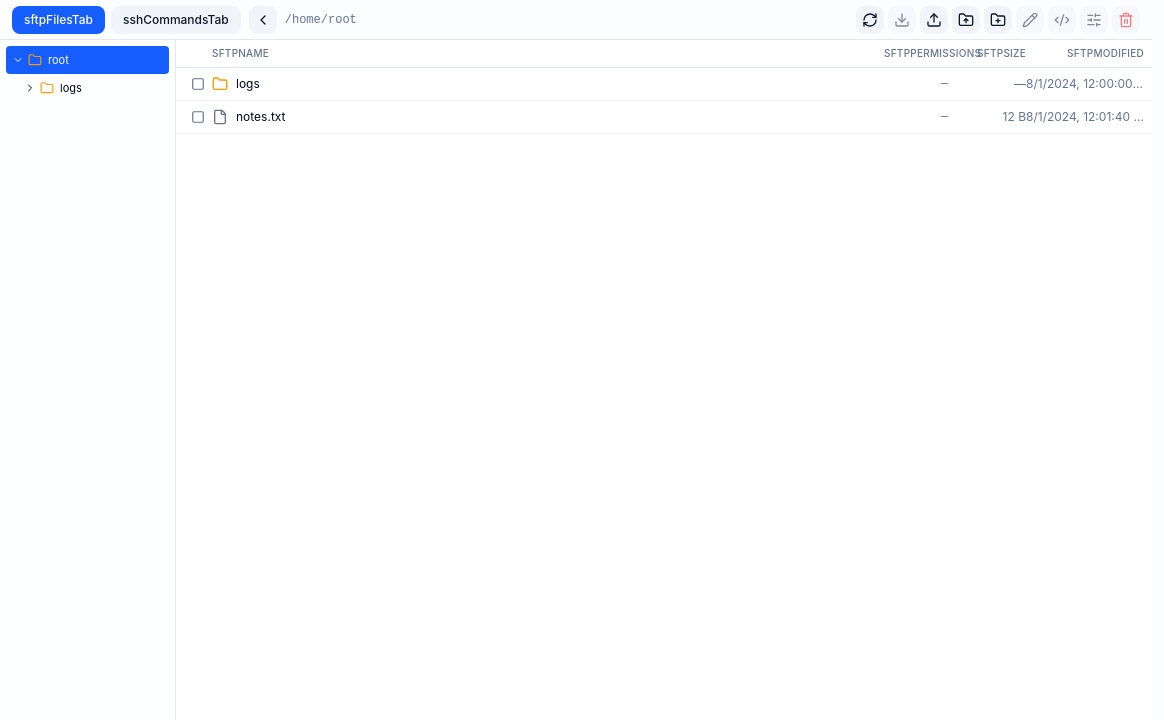
Test: SFTP panel › keeps a cancelled transfer cancelled when the command rejects after its final event
This screenshot has width=1164, height=720.
Expected: the text "notes.txt" is shown, [236,109,286,125]
Click the button named "sftpUpload" at (934,20), box [920,6,948,34]
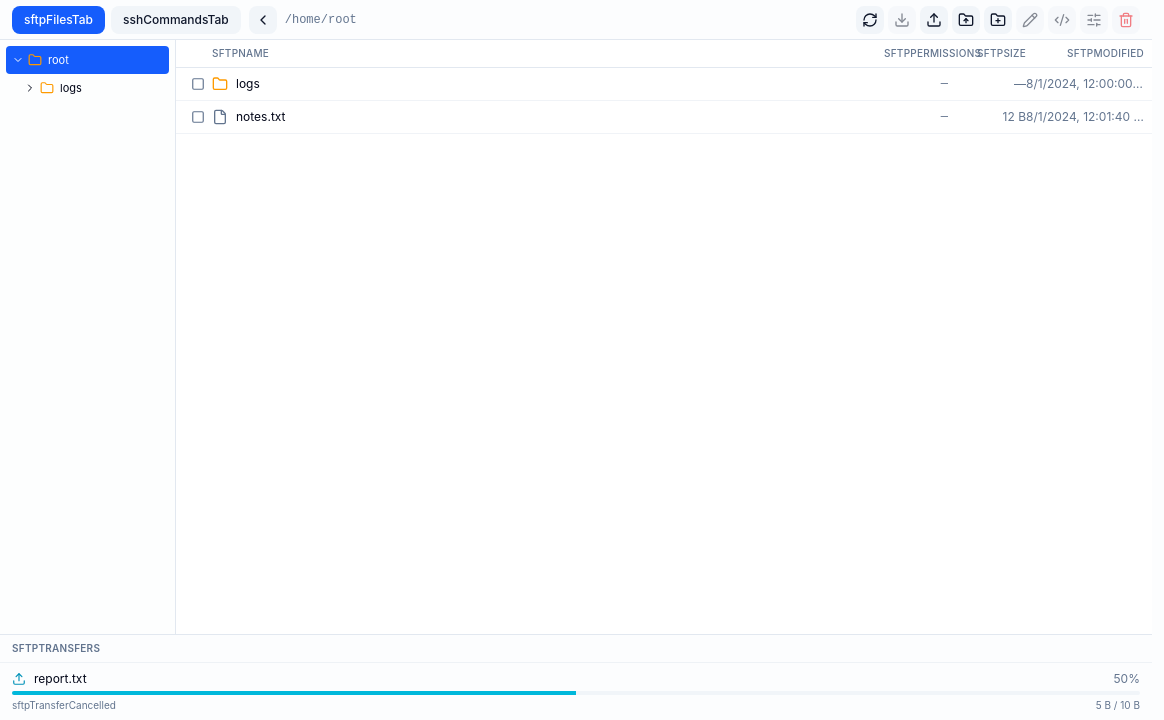
Expected: the text "sftpTransferCancelled" is shown, [12,699,116,712]
